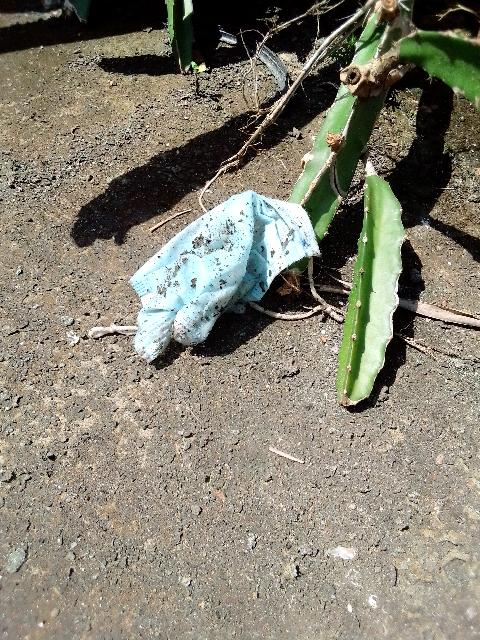mask: (143, 199, 340, 321)
